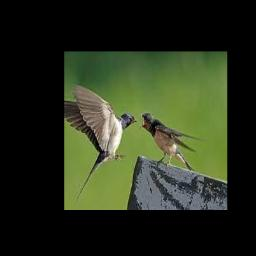Swallow: (64, 84, 137, 202), (139, 112, 204, 171)
